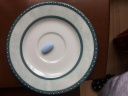Apranax: (40, 42, 55, 55)
